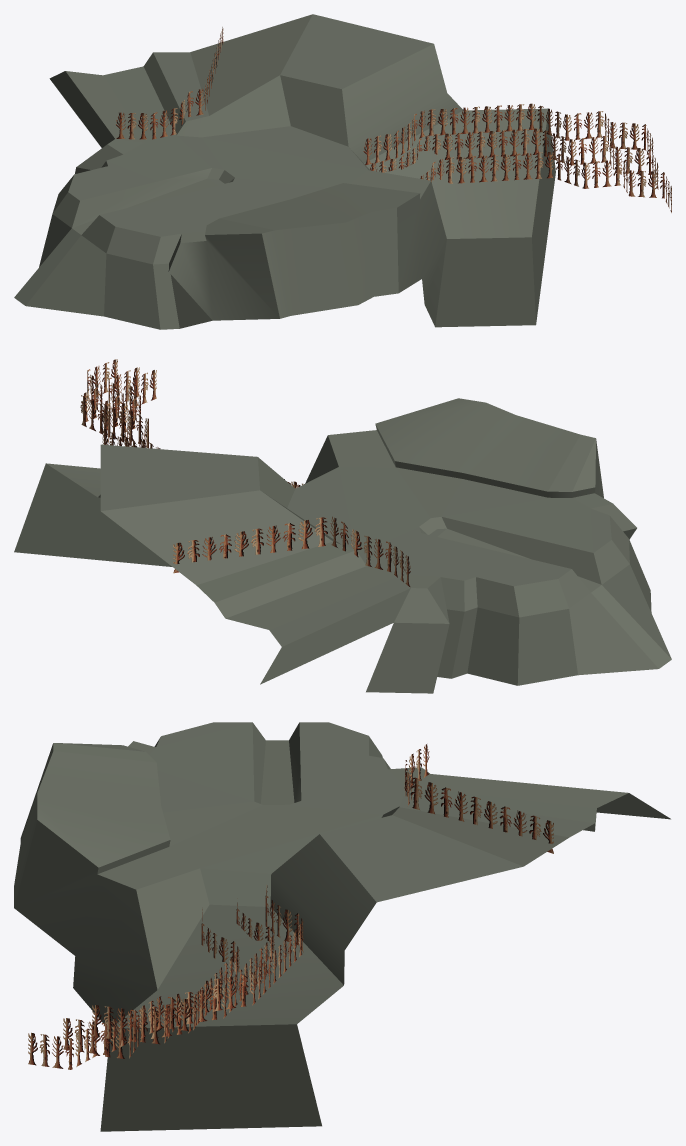
The model's file is DressingSalas_N2_B1.fbx.
The picture shows the model from 3 angles, top to bottom: view 1: azimuth 30°, elevation 25°; view 2: azimuth 150°, elevation 25°; view 3: azimuth 270°, elevation 25°; orthographic projection. The views are drawn at different scales.
Parts seen in each view (by area): view 1: PlayableArea, ArbolesPlanos2, ArbolesPlanos3, ArbolesPlanos4, ArbolesPlanos1; view 2: PlayableArea, ArbolesPlanos1, ArbolesPlanos2, ArbolesPlanos3, ArbolesPlanos4; view 3: PlayableArea, ArbolesPlanos2, ArbolesPlanos3, ArbolesPlanos4, ArbolesPlanos1.
Boxes of the visible parts, <box> form: PlayableArea: <box>14,14,555,329</box>; ArbolesPlanos2: <box>363,103,653,164</box>; ArbolesPlanos3: <box>370,128,658,189</box>; ArbolesPlanos4: <box>420,152,671,212</box>; ArbolesPlanos1: <box>116,27,223,139</box>; PlayableArea: <box>14,398,671,693</box>; ArbolesPlanos1: <box>173,516,410,586</box>; ArbolesPlanos2: <box>80,359,136,447</box>; ArbolesPlanos3: <box>102,367,300,488</box>; ArbolesPlanos4: <box>119,370,304,488</box>; PlayableArea: <box>14,722,670,1131</box>; ArbolesPlanos2: <box>92,885,303,1041</box>; ArbolesPlanos3: <box>63,898,274,1055</box>; ArbolesPlanos4: <box>28,909,239,1069</box>; ArbolesPlanos1: <box>404,744,553,853</box>.
Bounding box in the file's own units: 170 × 55.6 × 140.
Materials: 2 (1 with a texture image).
